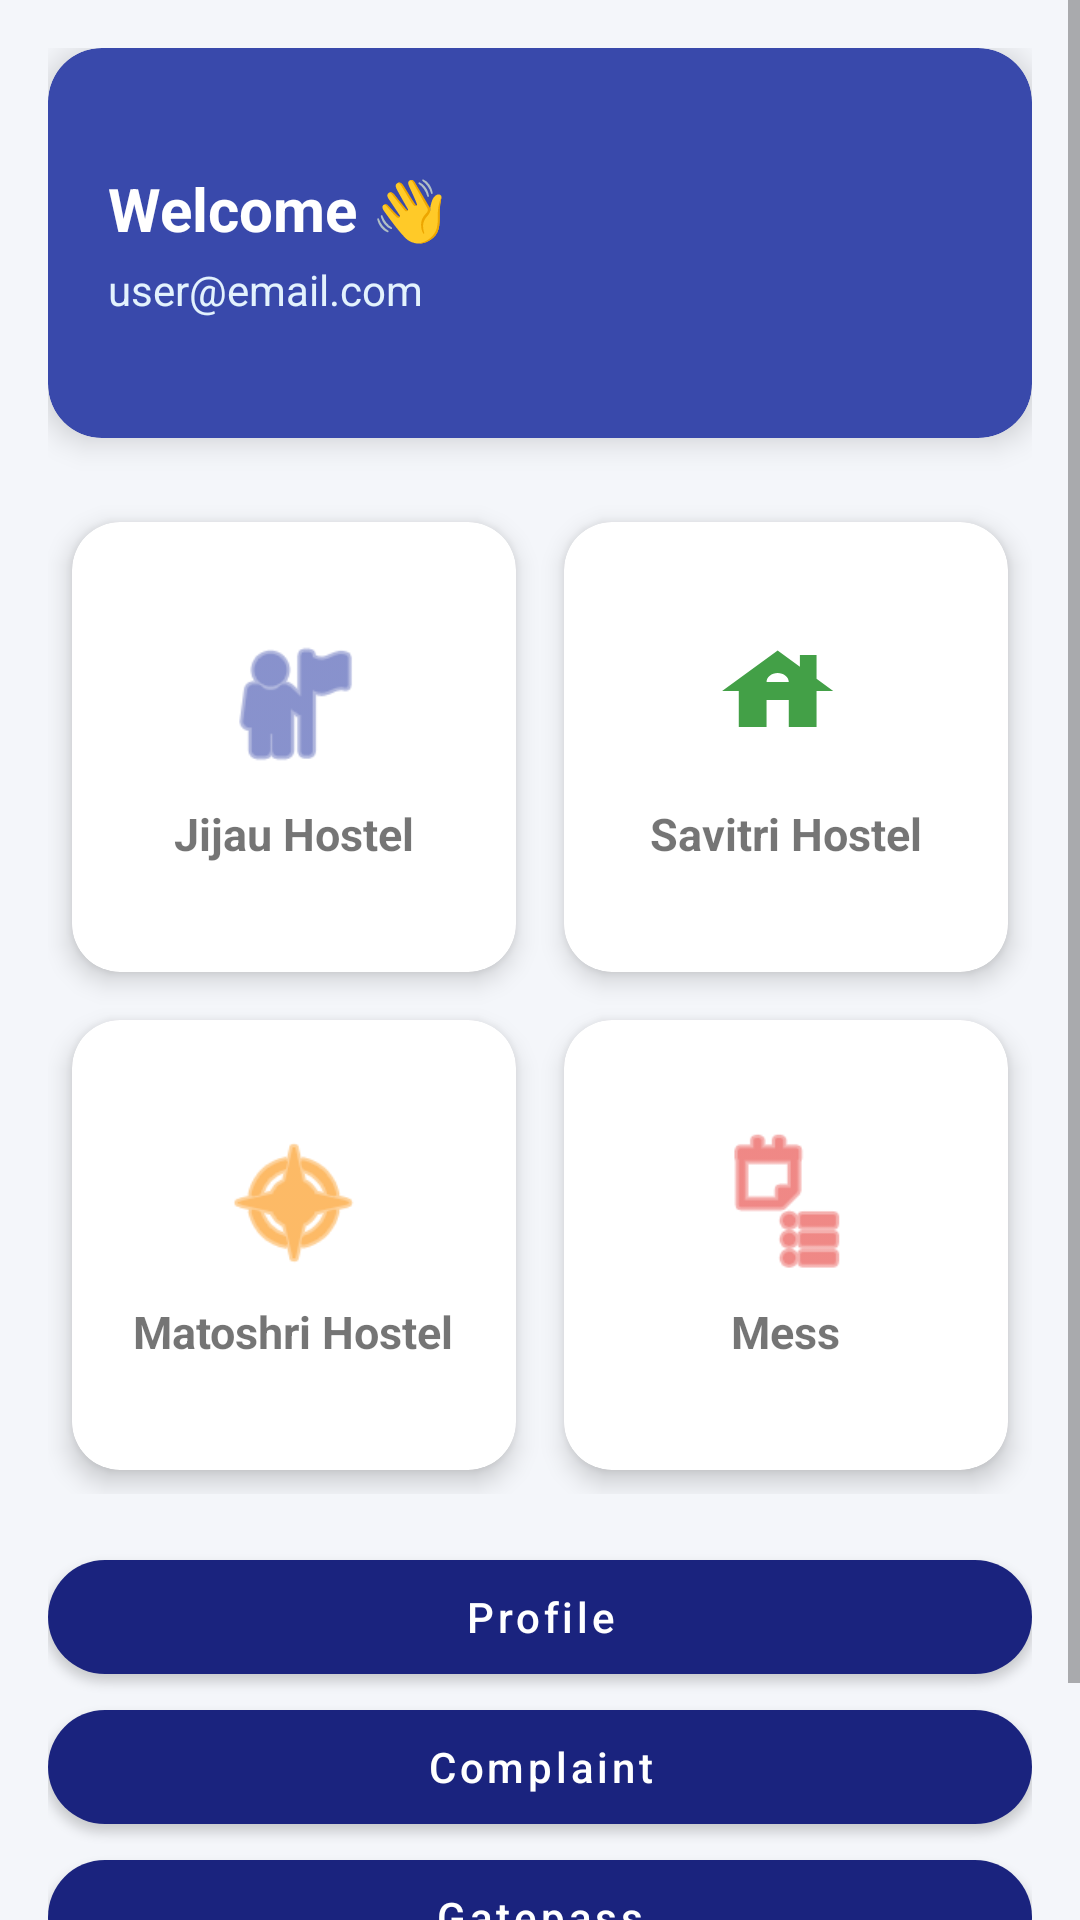

Icon click points for this 1080*1920 phone screenshot, format [x,y]:
agenda: [786,1201]
compass: [293,1203]
house: [777,688]
